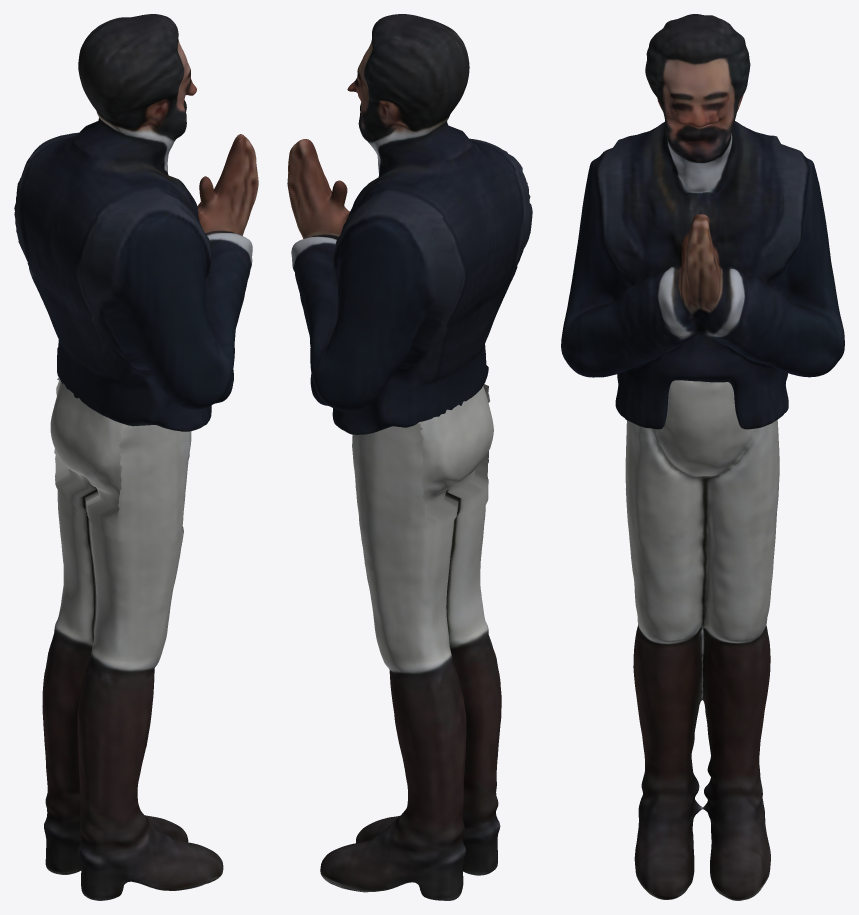
Rendered from ManClapping.fbx.
3 views of the same model, side by side, from view 1: azimuth 30°, elevation 25°; view 2: azimuth 150°, elevation 25°; view 3: azimuth 270°, elevation 25° (orthographic).
Parts seen in each view (by area): view 1: high_poly (×2); view 2: high_poly (×2); view 3: high_poly (×2).
Boxes of the visible parts, x1,y1,x2,y2 form: high_poly (×2): [14, 14, 258, 900]; high_poly (×2): [287, 14, 532, 900]; high_poly (×2): [561, 14, 844, 900].
Size of the model in its own units: 0.5633 by 2.26 by 0.6856.
